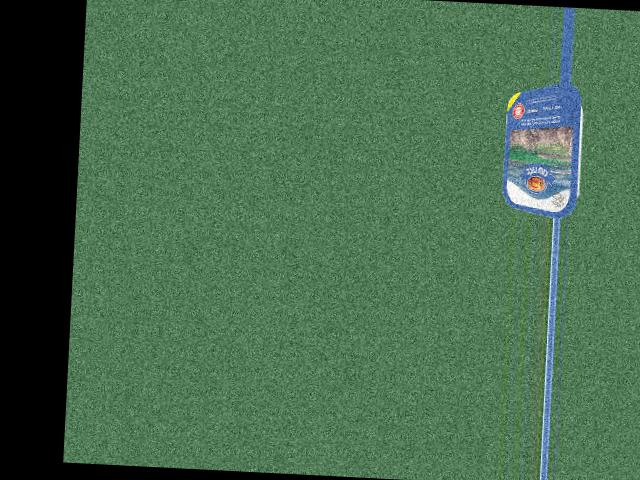cheese: (497, 95, 593, 209)
